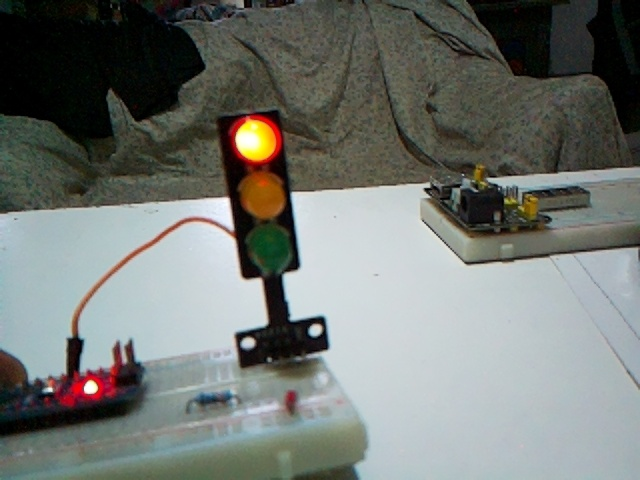traffic_light_red: (219, 109, 327, 367), (217, 109, 299, 279)
